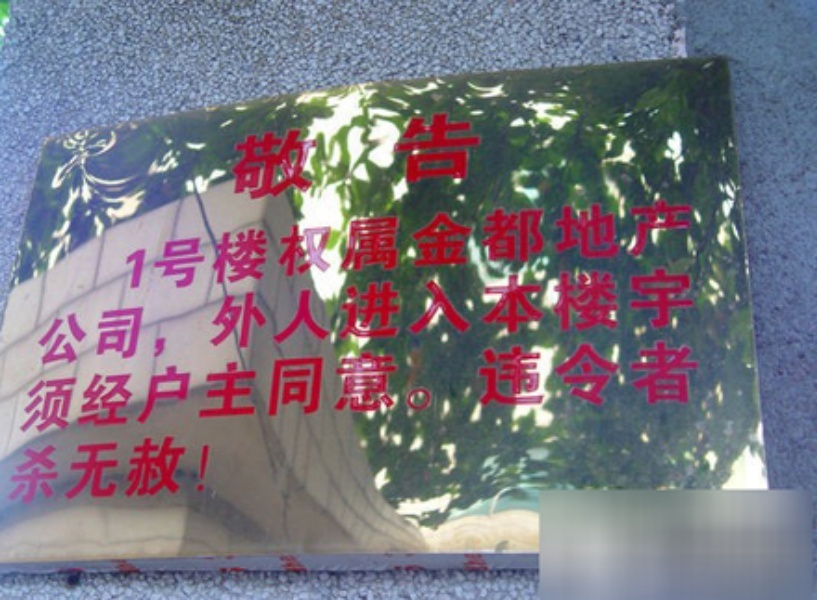text: (49, 264, 64, 365), (65, 264, 80, 365), (81, 264, 96, 365), (97, 264, 112, 365), (113, 264, 128, 365), (129, 264, 144, 365), (145, 264, 160, 365), (161, 264, 176, 365), (177, 264, 192, 365), (193, 264, 208, 365), (209, 264, 224, 365), (225, 264, 240, 365), (241, 264, 256, 365), (257, 264, 272, 365), (273, 264, 288, 365), (289, 264, 304, 365), (305, 264, 320, 365), (321, 264, 336, 365), (337, 264, 352, 365), (353, 264, 368, 365), (369, 264, 384, 365), (385, 264, 400, 365), (401, 264, 416, 365), (417, 264, 432, 365), (433, 264, 448, 365), (449, 264, 464, 365), (465, 264, 480, 365), (481, 264, 496, 365), (497, 264, 512, 365), (513, 264, 528, 365), (529, 264, 544, 365), (545, 264, 560, 365), (561, 264, 576, 365), (577, 264, 592, 365), (593, 264, 608, 365), (609, 264, 624, 365), (625, 264, 640, 365), (641, 264, 656, 365), (657, 264, 672, 365), (673, 264, 688, 365), (129, 196, 144, 294), (145, 196, 160, 294), (161, 196, 176, 294), (177, 196, 192, 294), (193, 196, 208, 294), (209, 196, 224, 294), (225, 196, 240, 294), (241, 196, 256, 294), (257, 196, 272, 294), (273, 196, 288, 294), (289, 196, 304, 294), (305, 196, 320, 294), (321, 196, 336, 294), (337, 196, 352, 294), (353, 196, 368, 294), (369, 196, 384, 294), (385, 196, 400, 294), (401, 196, 416, 294), (417, 196, 432, 294), (433, 196, 448, 294), (449, 196, 464, 294), (465, 196, 480, 294), (481, 196, 496, 294), (497, 196, 512, 294), (513, 196, 528, 294), (529, 196, 544, 294), (545, 196, 560, 294), (561, 196, 576, 294), (577, 196, 592, 294), (593, 196, 608, 294), (609, 196, 624, 294), (625, 196, 640, 294), (641, 196, 656, 294), (657, 196, 672, 294), (673, 196, 688, 294), (17, 339, 32, 437), (33, 339, 48, 437), (49, 339, 64, 437), (65, 339, 80, 437), (81, 339, 96, 437), (97, 339, 112, 437), (113, 339, 128, 437), (129, 339, 144, 437), (145, 339, 160, 437), (161, 339, 176, 437), (177, 339, 192, 437), (193, 339, 208, 437), (209, 339, 224, 437), (225, 339, 240, 437), (241, 339, 256, 437), (257, 339, 272, 437), (273, 339, 288, 437), (289, 339, 304, 437), (305, 339, 320, 437), (321, 339, 336, 437), (337, 339, 352, 437), (353, 339, 368, 437), (369, 339, 384, 437), (385, 339, 400, 437), (401, 339, 416, 437), (417, 339, 432, 437), (433, 339, 448, 437), (449, 339, 464, 437), (465, 339, 480, 437), (481, 339, 496, 437), (497, 339, 512, 437), (513, 339, 528, 437), (529, 339, 544, 437), (545, 339, 560, 437), (561, 339, 576, 437), (577, 339, 592, 437), (593, 339, 608, 437), (609, 339, 624, 437), (625, 339, 640, 437), (641, 339, 656, 437), (657, 339, 672, 437), (673, 339, 688, 437), (241, 108, 256, 201), (257, 108, 272, 201), (273, 108, 288, 201), (289, 108, 304, 201), (305, 108, 320, 201), (321, 108, 336, 201), (337, 108, 352, 201), (353, 108, 368, 201), (369, 108, 384, 201), (385, 108, 400, 201), (401, 108, 416, 201), (417, 108, 432, 201), (433, 108, 448, 201), (449, 108, 464, 201), (465, 108, 480, 201), (689, 264, 702, 365), (36, 264, 48, 365), (227, 108, 240, 201), (17, 435, 32, 509), (33, 435, 48, 509), (49, 435, 64, 509), (65, 435, 80, 509), (81, 435, 96, 509), (97, 435, 112, 509), (113, 435, 128, 509), (129, 435, 144, 509), (145, 435, 160, 509), (161, 435, 176, 509), (177, 435, 192, 509), (193, 435, 208, 509), (2, 435, 16, 509), (119, 196, 128, 294), (689, 196, 697, 294), (689, 339, 697, 437), (481, 108, 483, 201), (15, 339, 16, 437), (209, 435, 210, 509)
